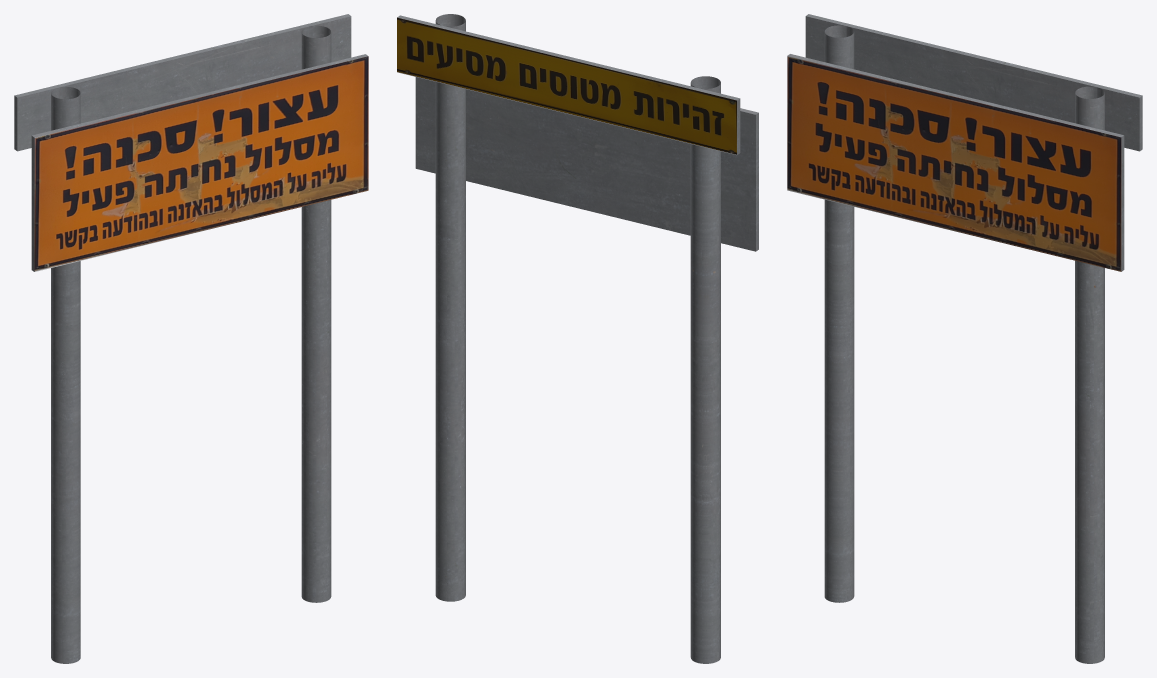
File: KibuiOrangeAtzorShelet_LOD0.gltf
3 renders of one model, left to right at view 1: azimuth 30°, elevation 25°; view 2: azimuth 150°, elevation 25°; view 3: azimuth 330°, elevation 25°, orthographic.
Parts seen in each view (by area): view 1: node2, node1; view 2: node1, node3; view 3: node2, node1.
Part boxes in pixels (x1,y1,x2,y2): node2: (34,56,368,271); node1: (14,14,367,663); node1: (397,14,758,663); node3: (397,17,736,155); node2: (787,56,1121,271); node1: (787,14,1142,663).
Bounding box in the file's own units: 1.3 × 2.1 × 0.14.
